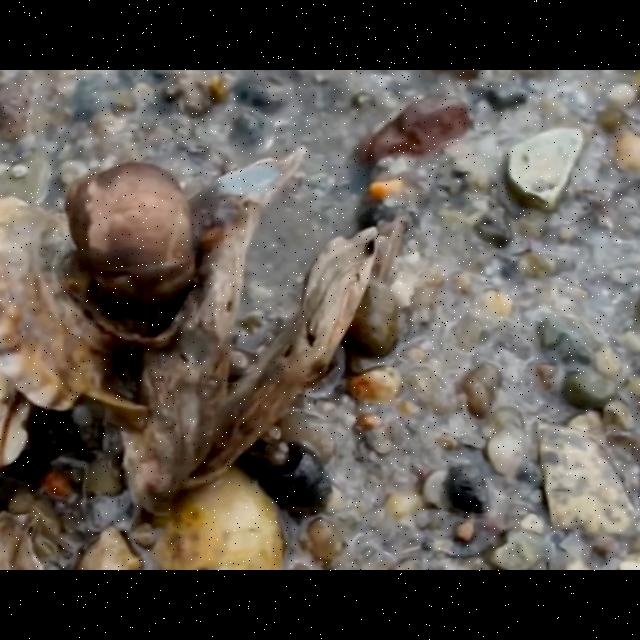Oyster-Closed: (0, 194, 122, 413)
Oyster-Open: (121, 144, 389, 510)
